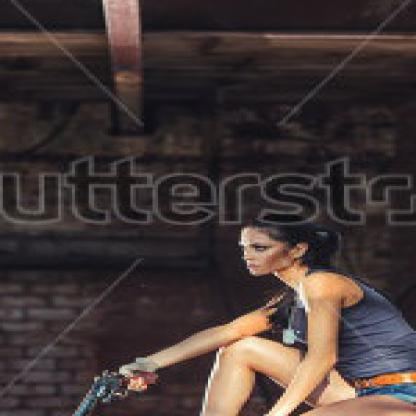gun: (58, 363, 161, 414)
